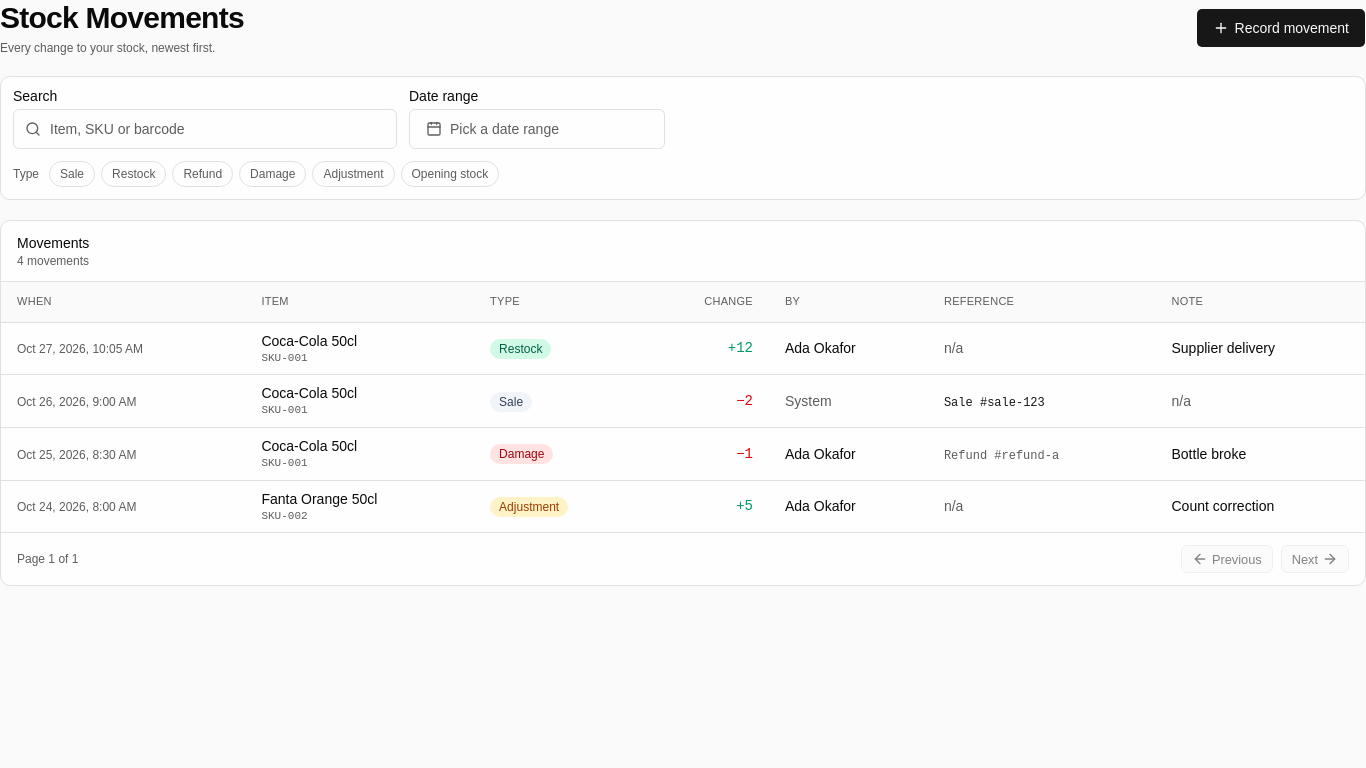
Test case: StockMovementPage › opens the record movement drawer without touching the URL
Check: the text "4 movements" is shown, box [17,253,89,269]
Click the button "Record movement": [1281, 28] box [1196,8,1365,48]
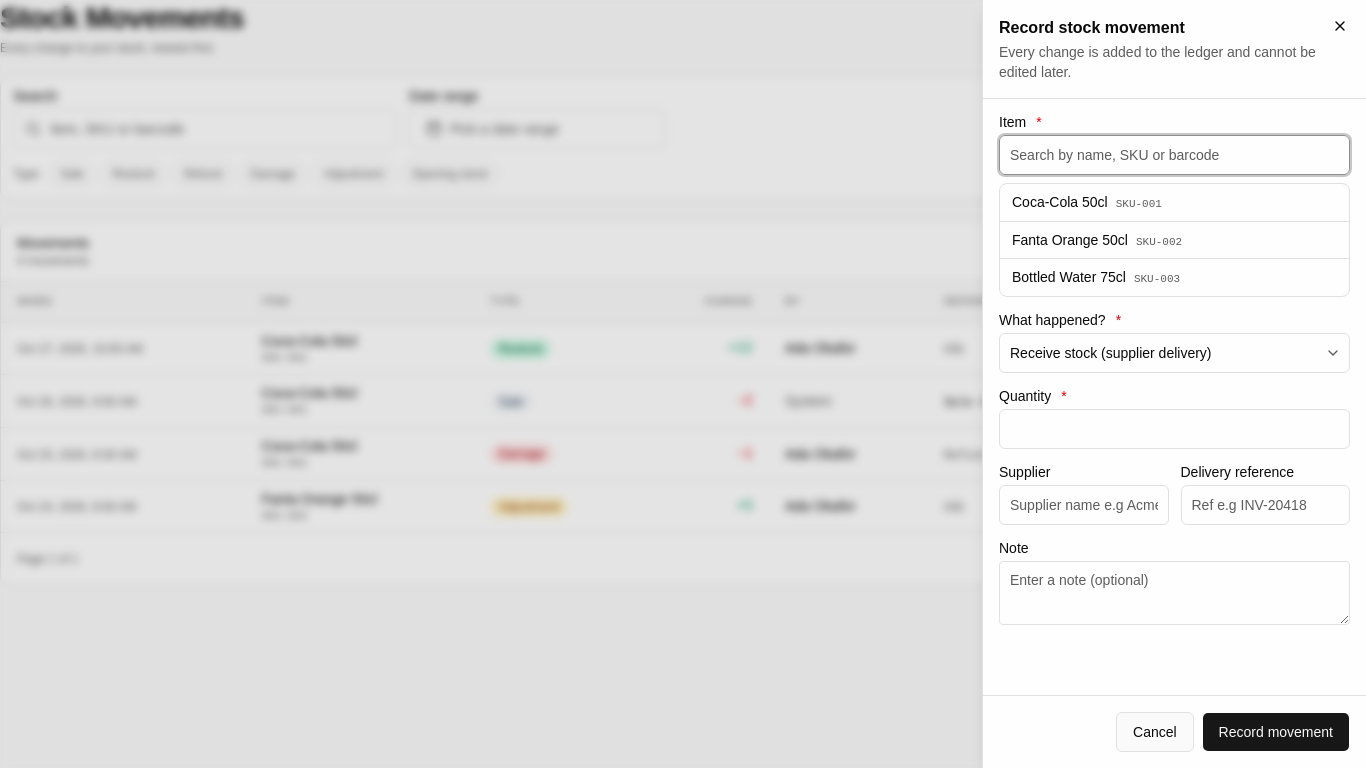
Check: the text "Every change is added to the ledger and cannot be edited later." is shown, box [999,42,1318,82]
